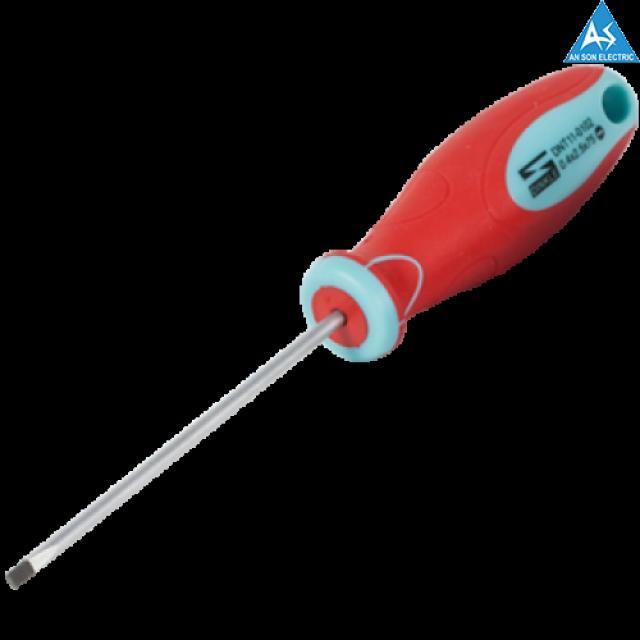screwdriver: (2, 62, 640, 592)
